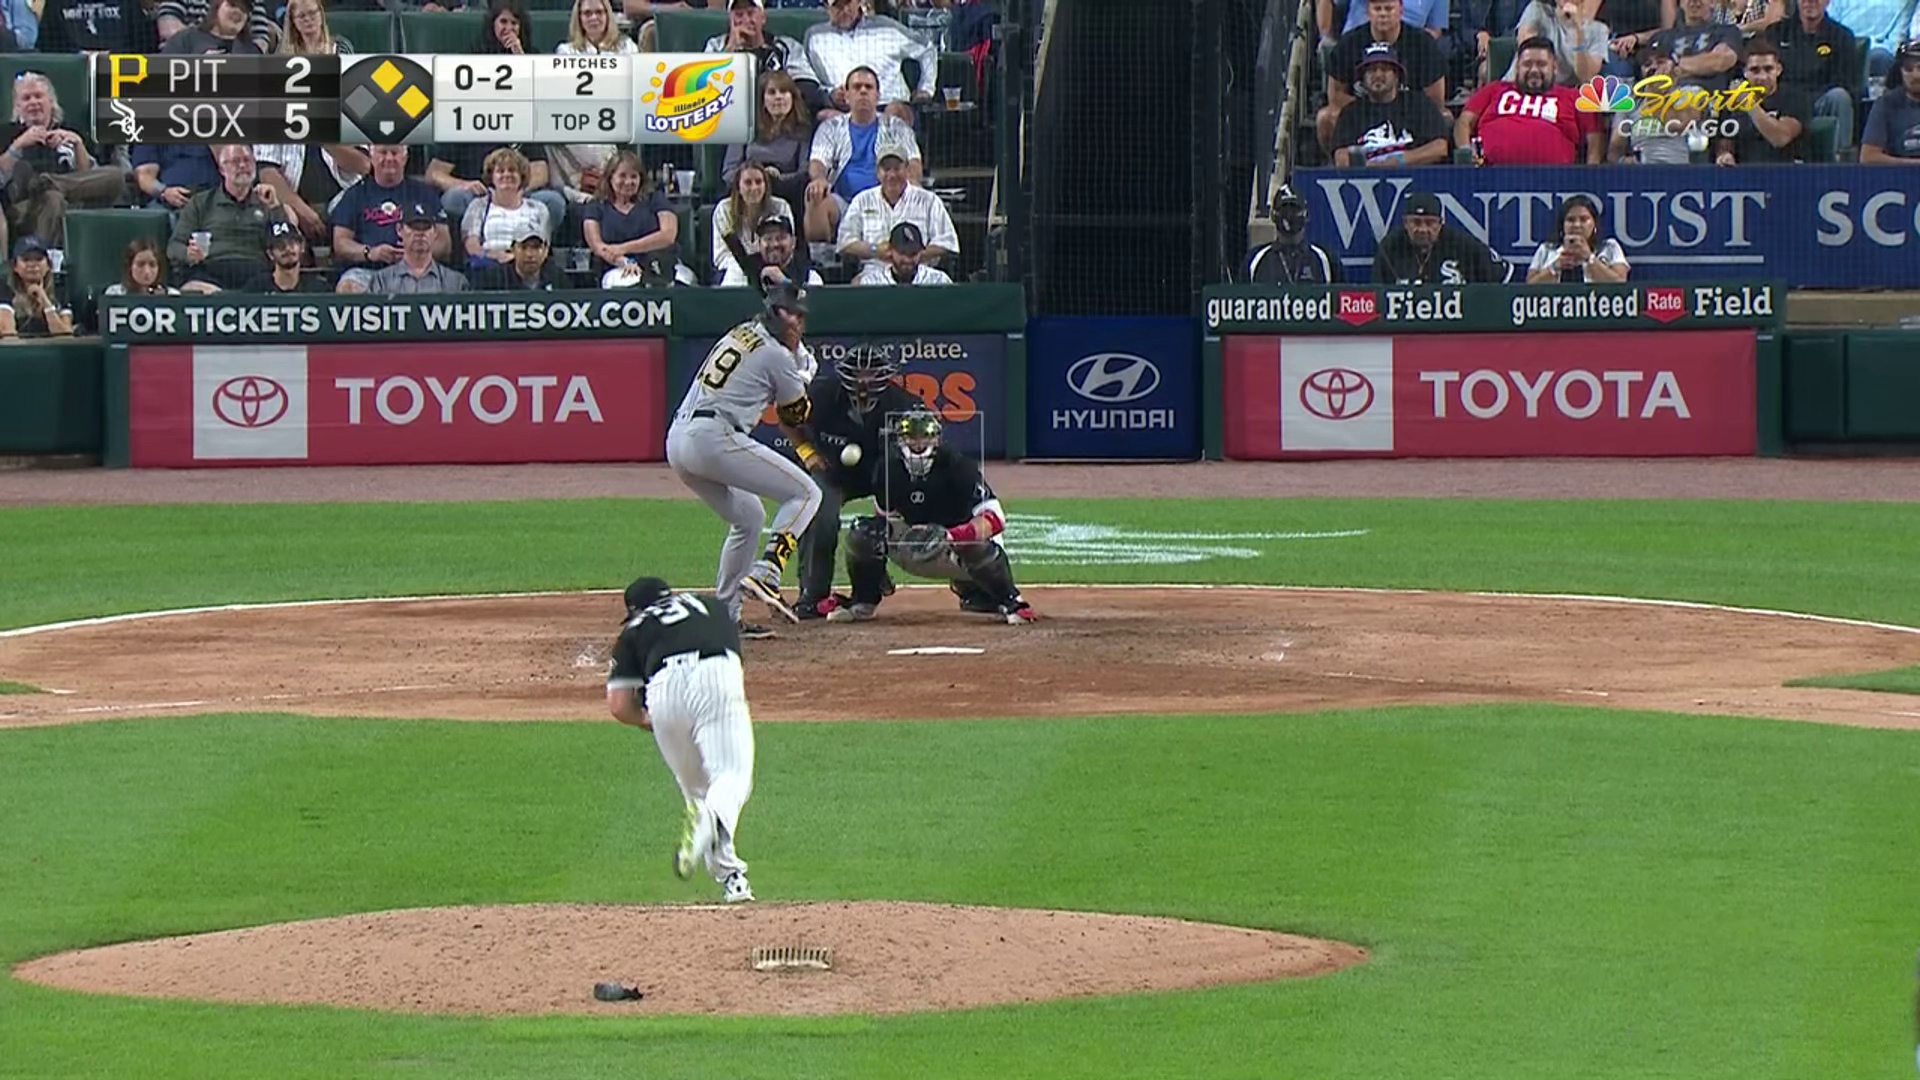baseball: (839, 442, 861, 467)
